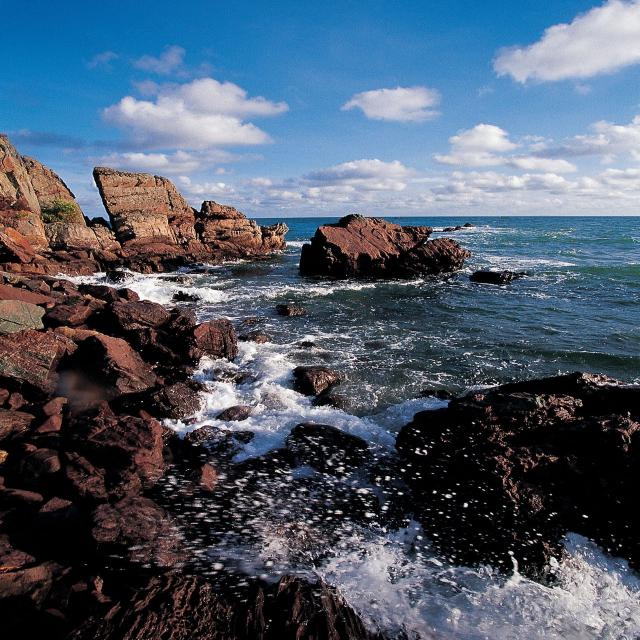reef: (126, 341, 453, 588), (81, 187, 459, 313)
